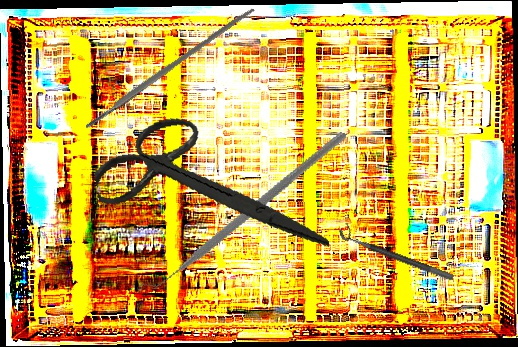Chopper: (136, 85, 347, 332)
Fixation Ring: (336, 221, 458, 282)
Iris Scissors: (87, 95, 330, 287)
Scalpel Handle: (82, 5, 257, 130)
